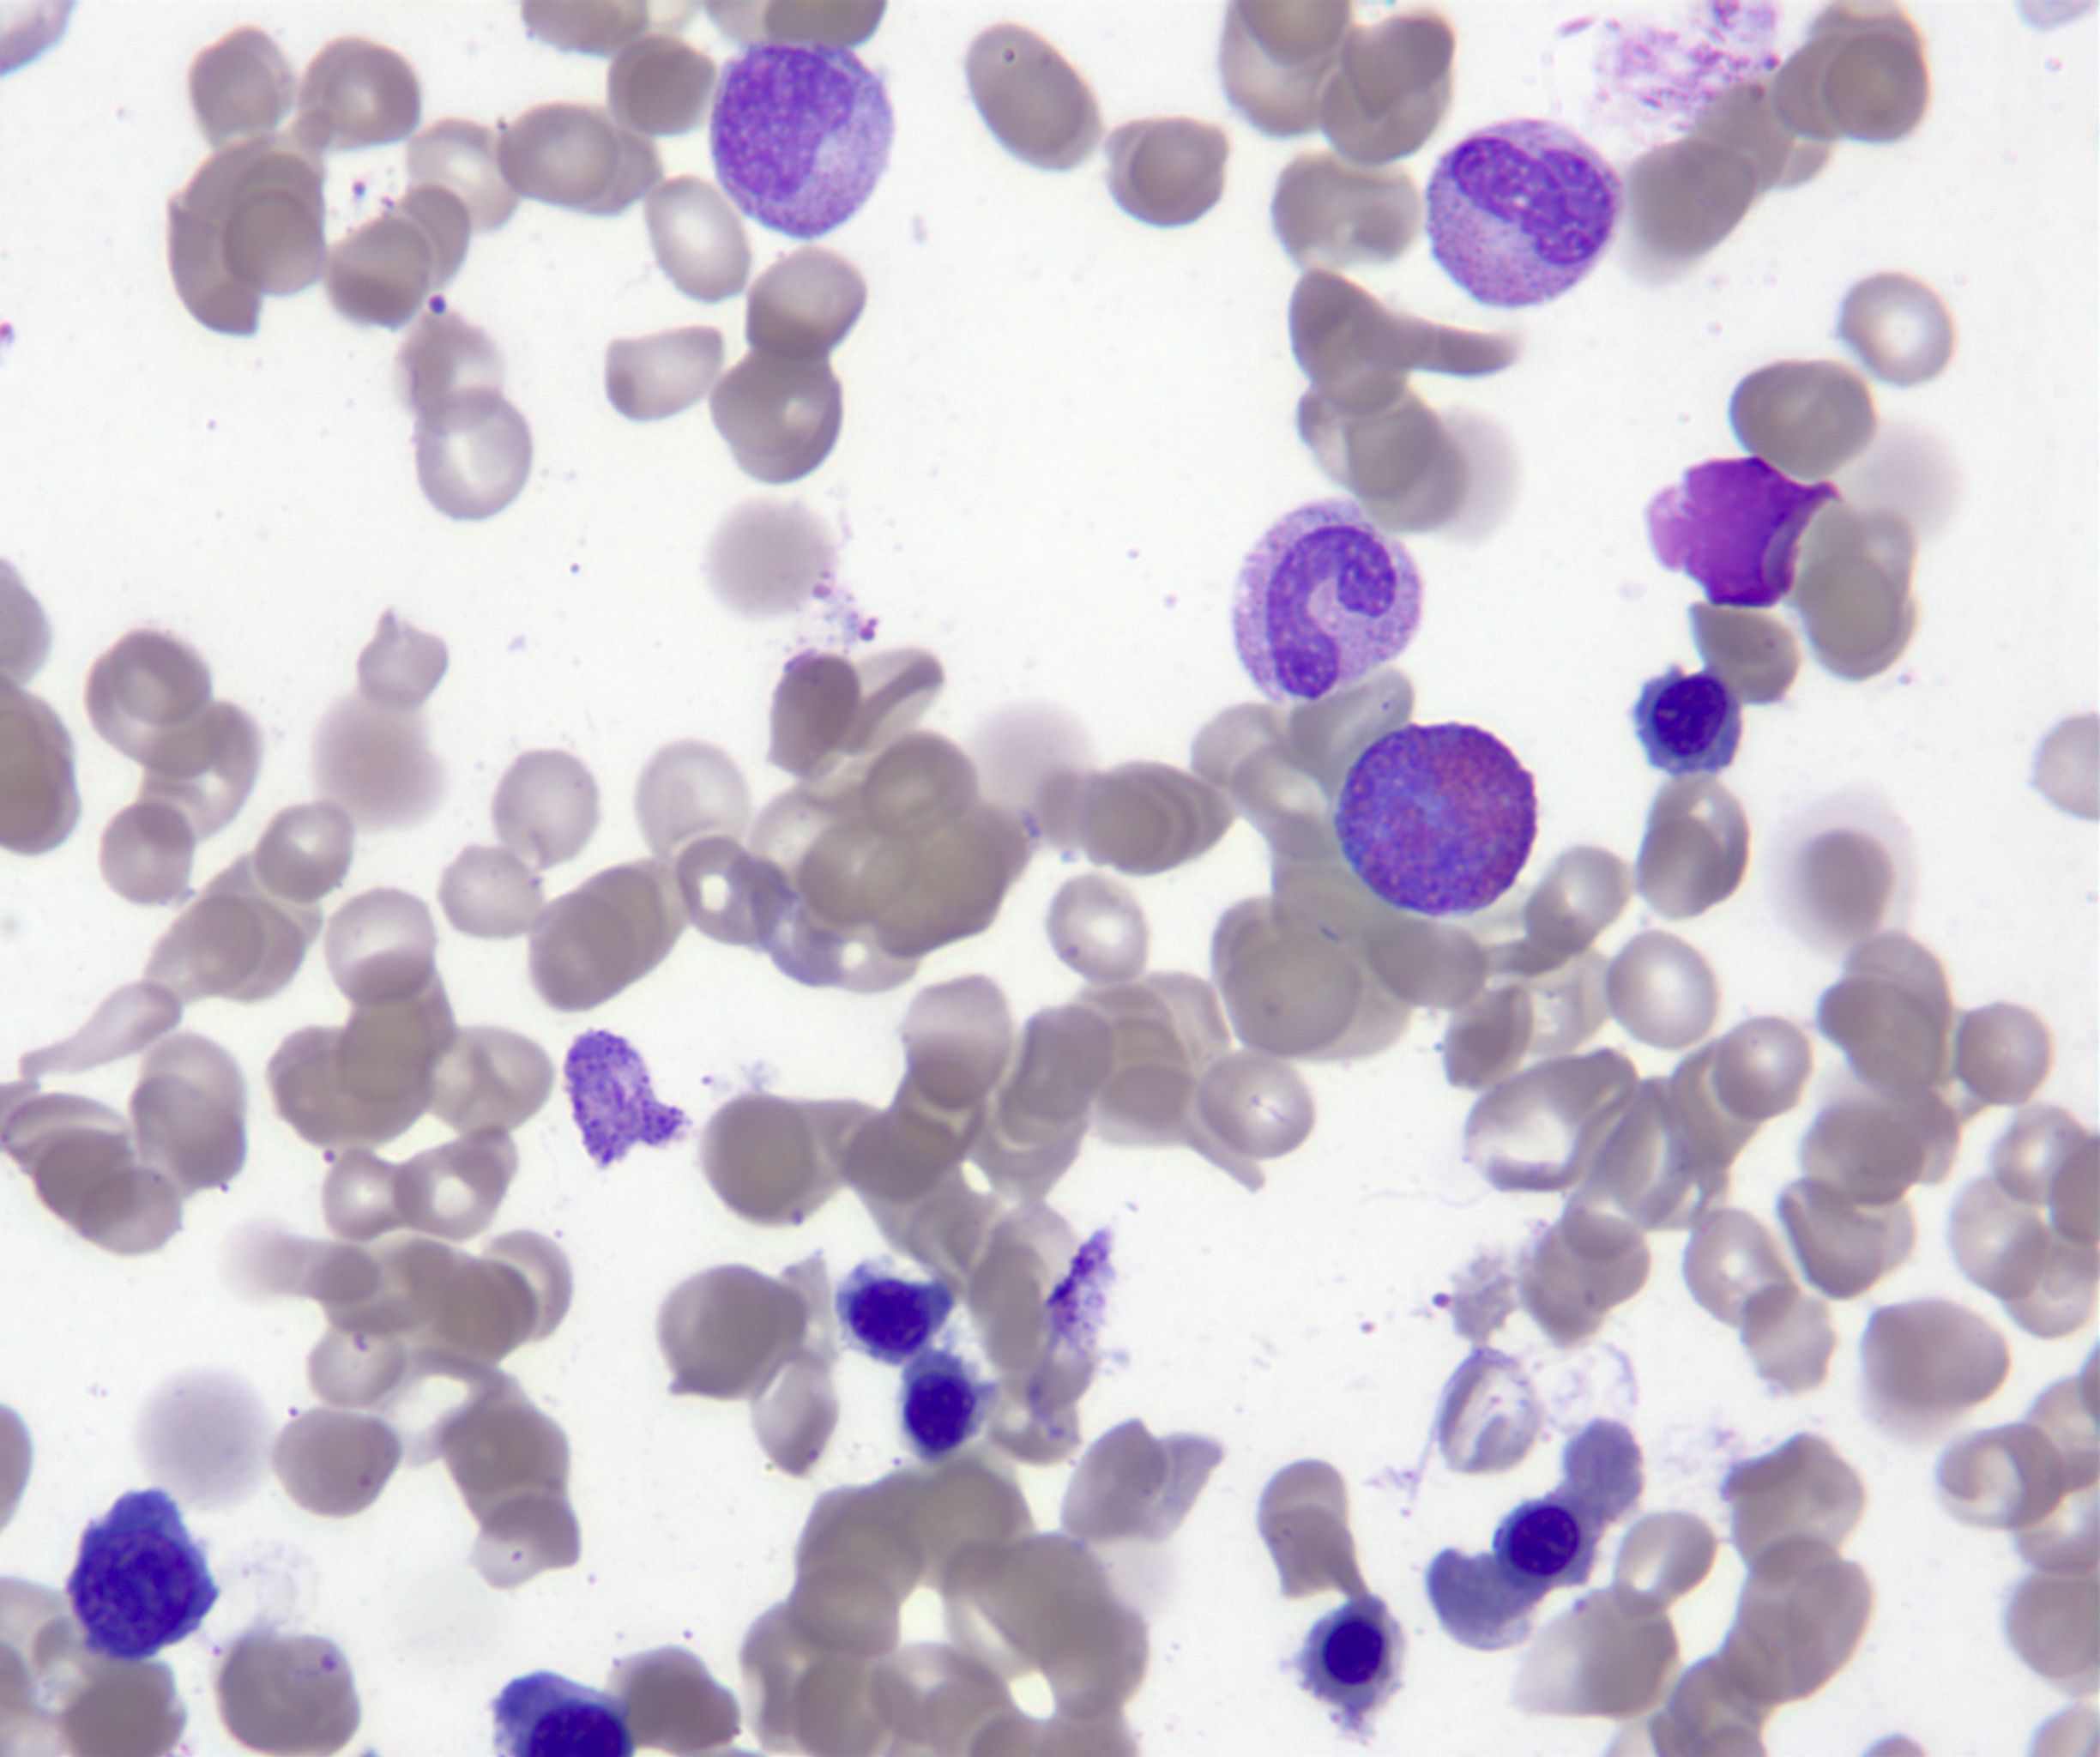23: (66, 1492, 213, 1658)
24: (1428, 1417, 1645, 1651), (1305, 1603, 1408, 1743), (837, 1258, 959, 1361), (1633, 665, 1746, 775), (900, 1349, 998, 1462)
3: (708, 40, 891, 237)
5: (1233, 499, 1422, 705)
6: (1427, 117, 1620, 311)
E4: (1338, 719, 1537, 916)
x: (1647, 457, 1831, 605), (495, 1677, 635, 1757)
